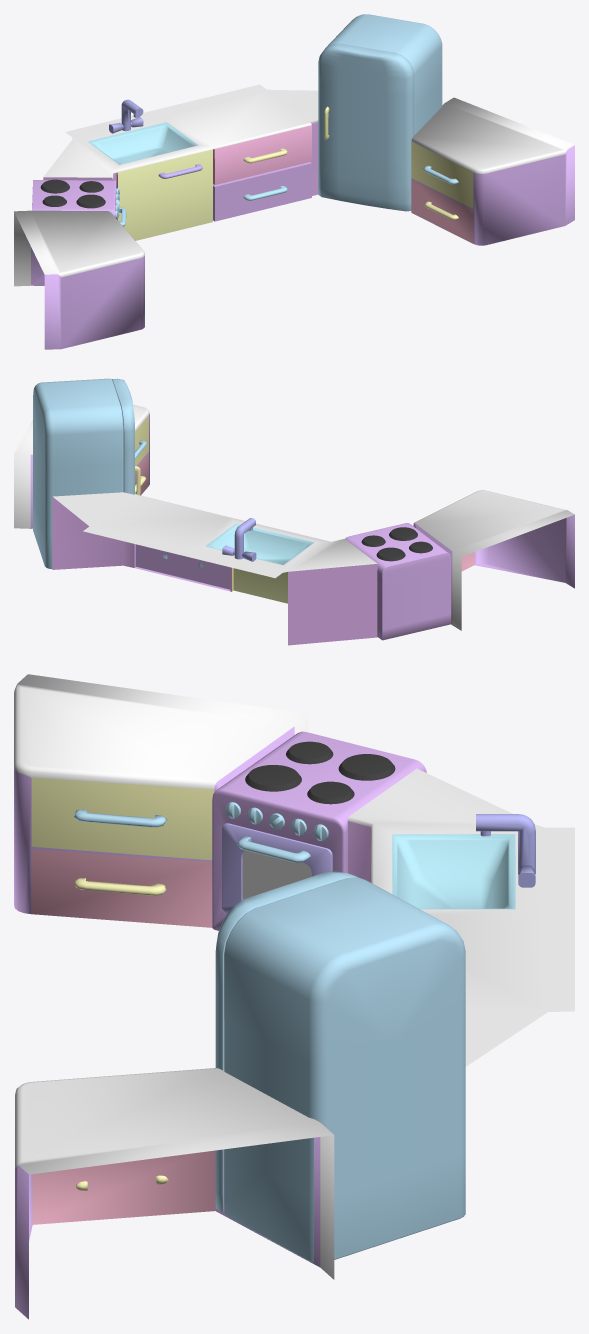
Rendered from aki_väänsi_tämän_keittiön.fbx.
The picture shows the model from 3 angles, top to bottom: view 1: azimuth 30°, elevation 25°; view 2: azimuth 150°, elevation 25°; view 3: azimuth 270°, elevation 25°; orthographic projection. The views are drawn at different scales.
Parts seen in each view (by area): view 1: Cube, Cube.003, kaapinOvi, Cube.001, kaappi, uuni.001; view 2: Cube, kaappi, Cube.001, uuni.001, Cube.003, kaapinOvi; view 3: kaappi, Cube.001, Cube.003, Cube, uuni.001, luukku, kaapinOvi.
Boxes of the visible parts, left/top/right/bottom form: Cube: left=43, top=84, right=318, bottom=240; Cube.003: left=411, top=97, right=574, bottom=245; kaapinOvi: left=318, top=44, right=414, bottom=211; Cube.001: left=14, top=210, right=144, bottom=349; kaappi: left=324, top=14, right=442, bottom=134; uuni.001: left=32, top=179, right=119, bottom=218; Cube: left=52, top=492, right=377, bottom=645; kaappi: left=33, top=378, right=123, bottom=568; Cube.001: left=413, top=490, right=574, bottom=630; uuni.001: left=345, top=523, right=451, bottom=640; Cube.003: left=14, top=404, right=149, bottom=528; kaapinOvi: left=112, top=378, right=140, bottom=495; kaappi: left=224, top=877, right=465, bottom=1262; Cube.001: left=14, top=674, right=308, bottom=927; Cube.003: left=15, top=1068, right=334, bottom=1319; Cube: left=347, top=768, right=574, bottom=1066; uuni.001: left=212, top=731, right=426, bottom=930; luukku: left=222, top=823, right=332, bottom=913; kaapinOvi: left=215, top=871, right=357, bottom=1211.
Bounding box in the file's own units: 8.74 × 2.43 × 4.14.
